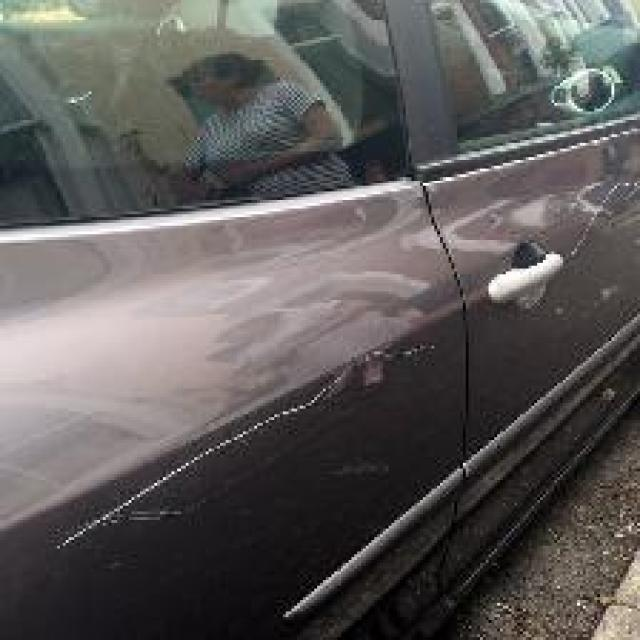damaged: (54, 346, 437, 554), (562, 180, 638, 263)
